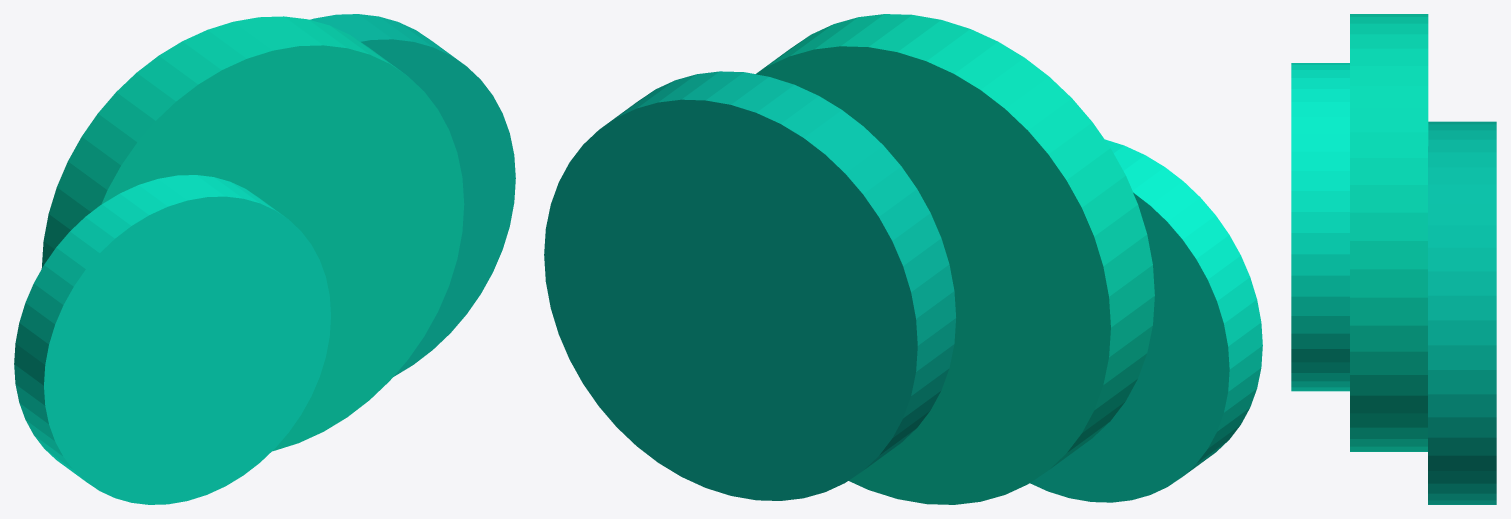
Rendered from cdai.gltf.
3 renders of one model, left to right at view 1: azimuth 30°, elevation 25°; view 2: azimuth 150°, elevation 25°; view 3: azimuth 270°, elevation 25°, orthographic. The views are drawn at different scales.
Bounding box in the file's own units: 8.12 × 5.75 × 2.69.
